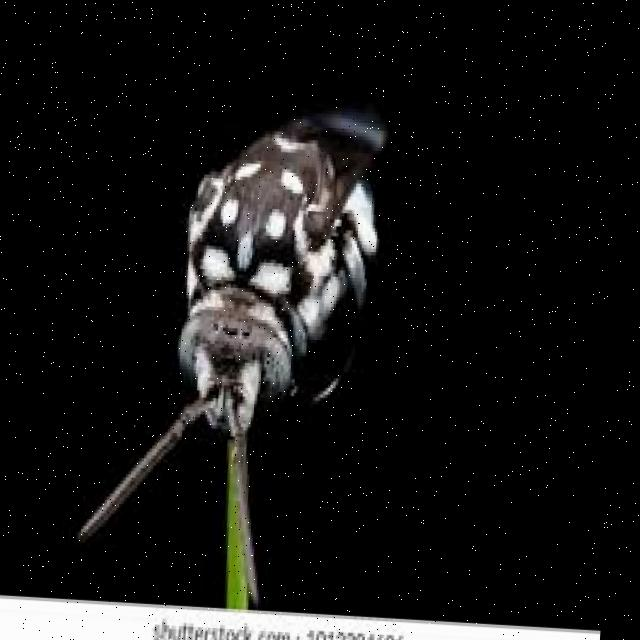Thyreus: (80, 72, 396, 562)
